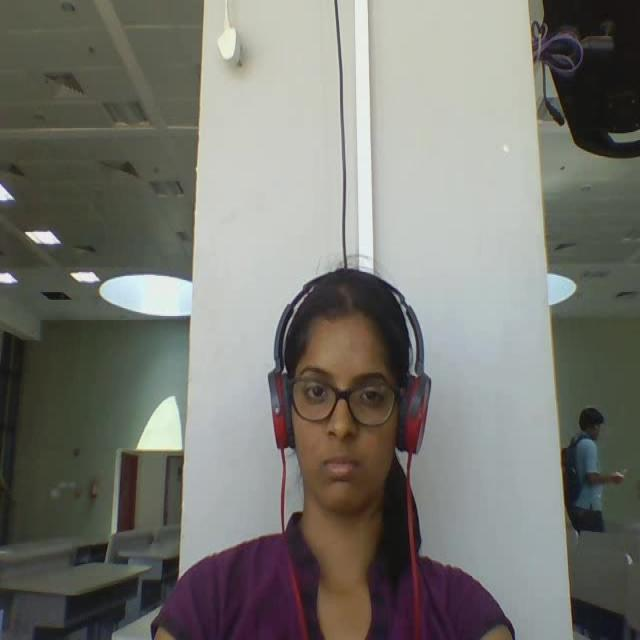Engaged: (256, 252, 447, 528)
